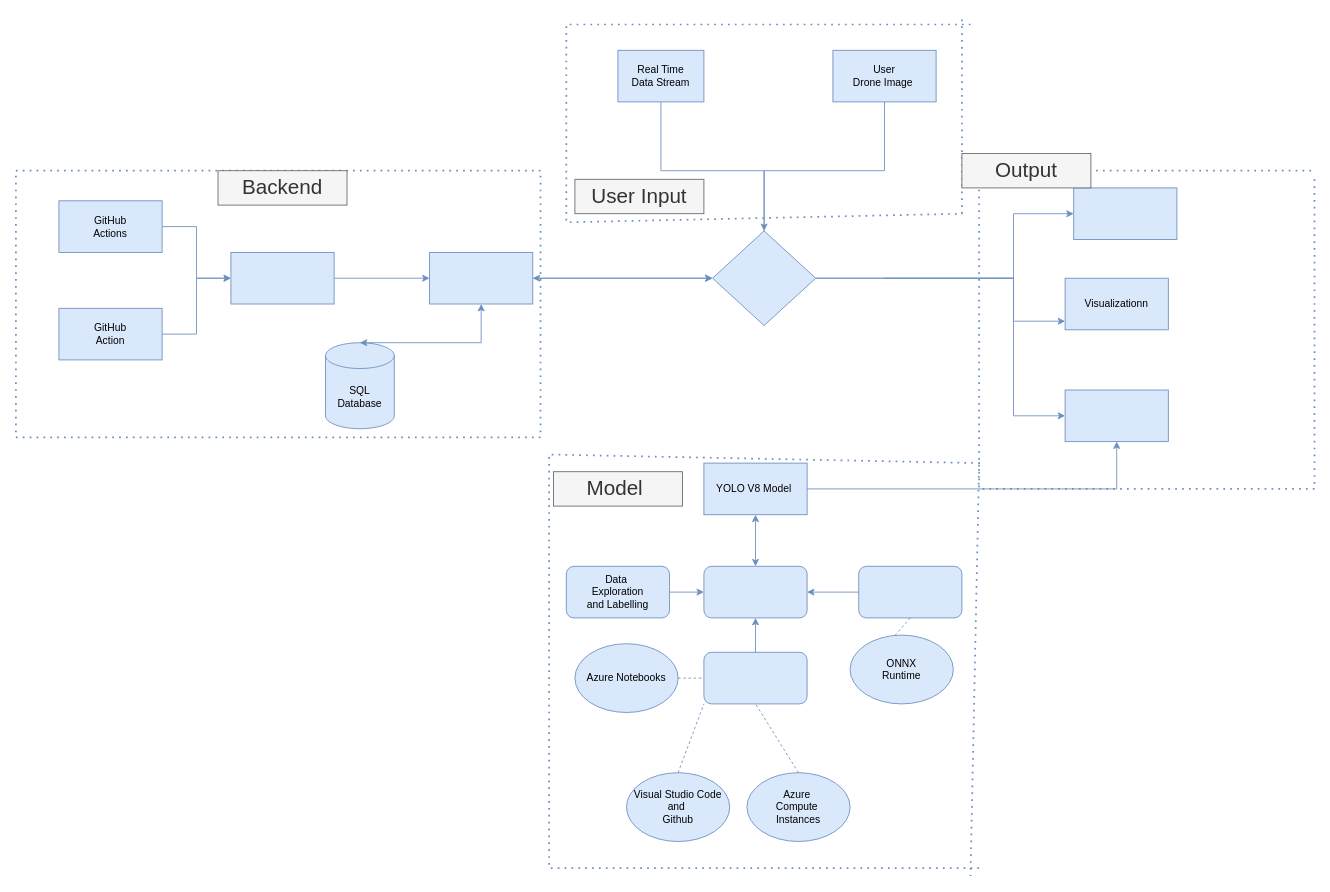
The diagram is 1330 pixels wide and 892 high, and some of its shapes have lost their labels. Here are the shapes that lost their labels. From the top down, the centre of each, then its label:
At [1125,213]: "Data Display".
At [282,278]: "Azure App Services".
At [481,278]: "Flask".
At [764,278]: "Web Application Frontend".
At [1116,415]: "Plastic Detection".
At [755,591]: "Azure Machine Learning".
At [910,591]: "Validation and Inference".
At [755,677]: "Building Machine Learning Model".
